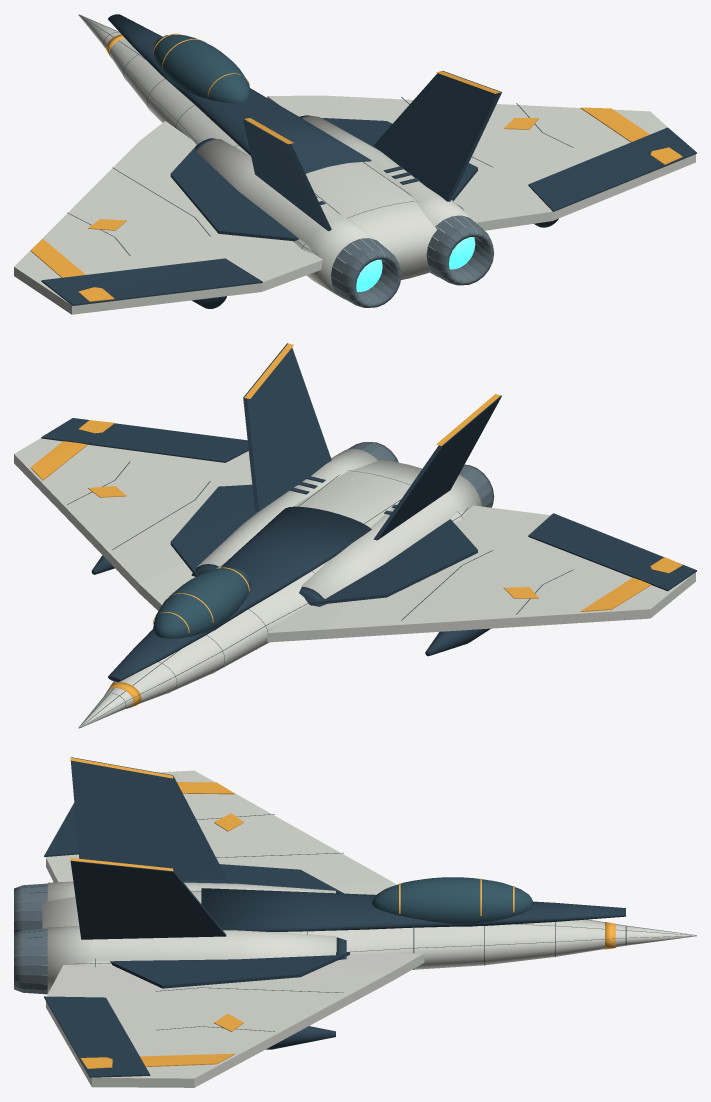
Rendered from warden.glb.
3 renders of one model, top to bottom at view 1: azimuth 30°, elevation 25°; view 2: azimuth 150°, elevation 25°; view 3: azimuth 270°, elevation 25°, orthographic.
Visible parts, largest first — view 1: warden; view 2: warden; view 3: warden.
Boxes of the visible parts, x1,y1,x2,y2 form: warden: (14, 14, 696, 314); warden: (14, 343, 696, 728); warden: (14, 757, 696, 1087).
Size of the model in its own units: 20.6 by 5.06 by 19.3.
